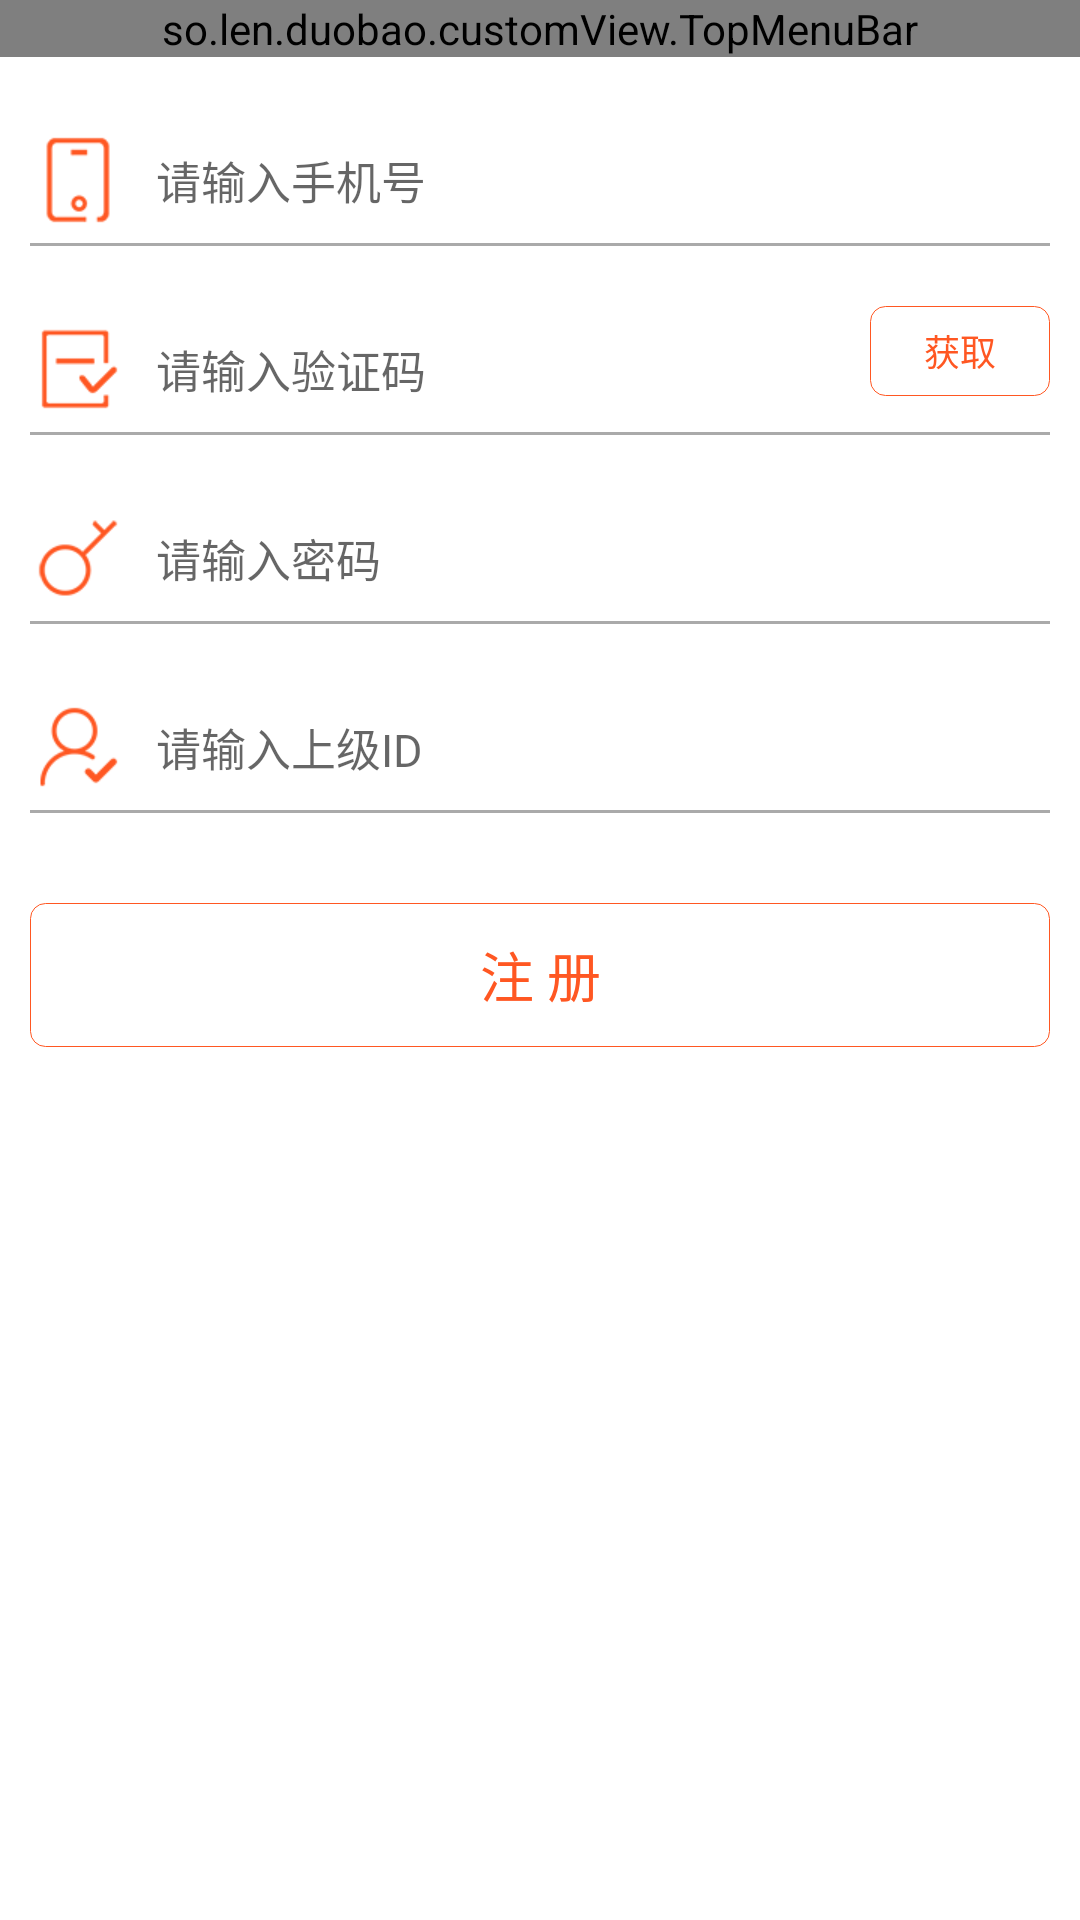

Screen size 1080x1920. Icon name, then its center in pixels as [x,y]:
code: [79,369]
password: [78,558]
phone: [78,180]
